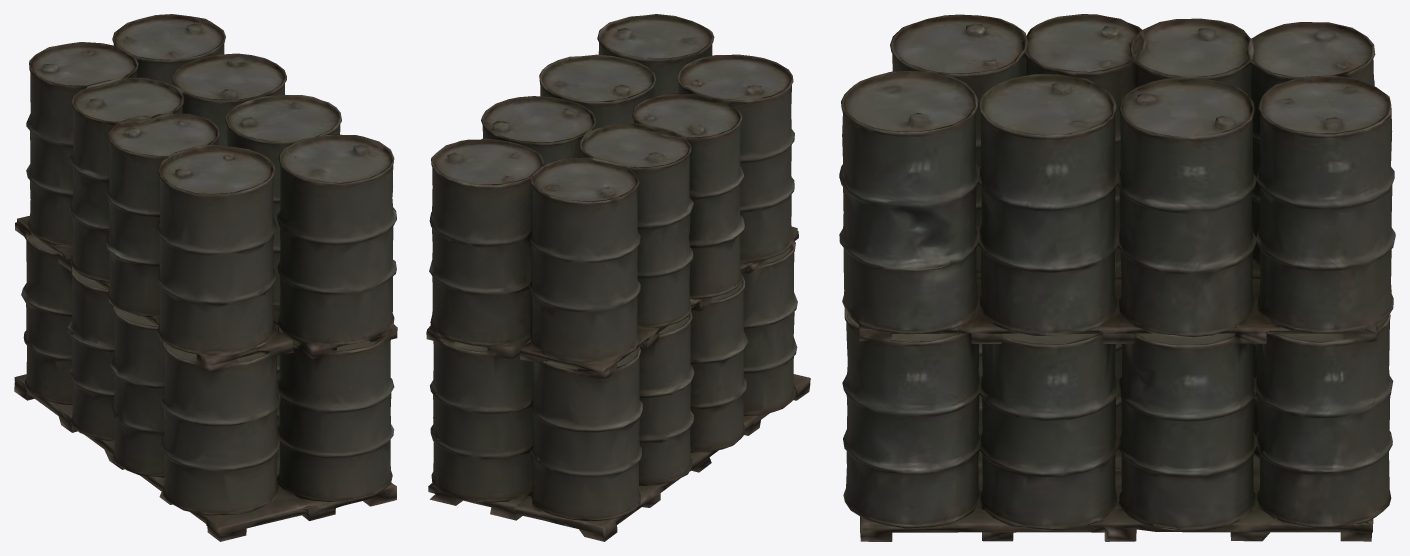
Rendered from prop_drums.glb.
3 renders of one model, left to right at view 1: azimuth 30°, elevation 25°; view 2: azimuth 150°, elevation 25°; view 3: azimuth 270°, elevation 25°, orthographic. The views are drawn at different scales.
Parts seen in each view (by area): view 1: tripo_node_77aac4eb-d3fe-44f6-ac3b-563f331bc1dc; view 2: tripo_node_77aac4eb-d3fe-44f6-ac3b-563f331bc1dc; view 3: tripo_node_77aac4eb-d3fe-44f6-ac3b-563f331bc1dc.
Boxes of the visible parts, x1,y1,x2,y2 form: tripo_node_77aac4eb-d3fe-44f6-ac3b-563f331bc1dc: (14,14,397,541); tripo_node_77aac4eb-d3fe-44f6-ac3b-563f331bc1dc: (426,14,810,541); tripo_node_77aac4eb-d3fe-44f6-ac3b-563f331bc1dc: (839,14,1395,541).
Bounding box in the file's own units: 0.538 × 0.8276 × 1.
1 material, 1 textured.
